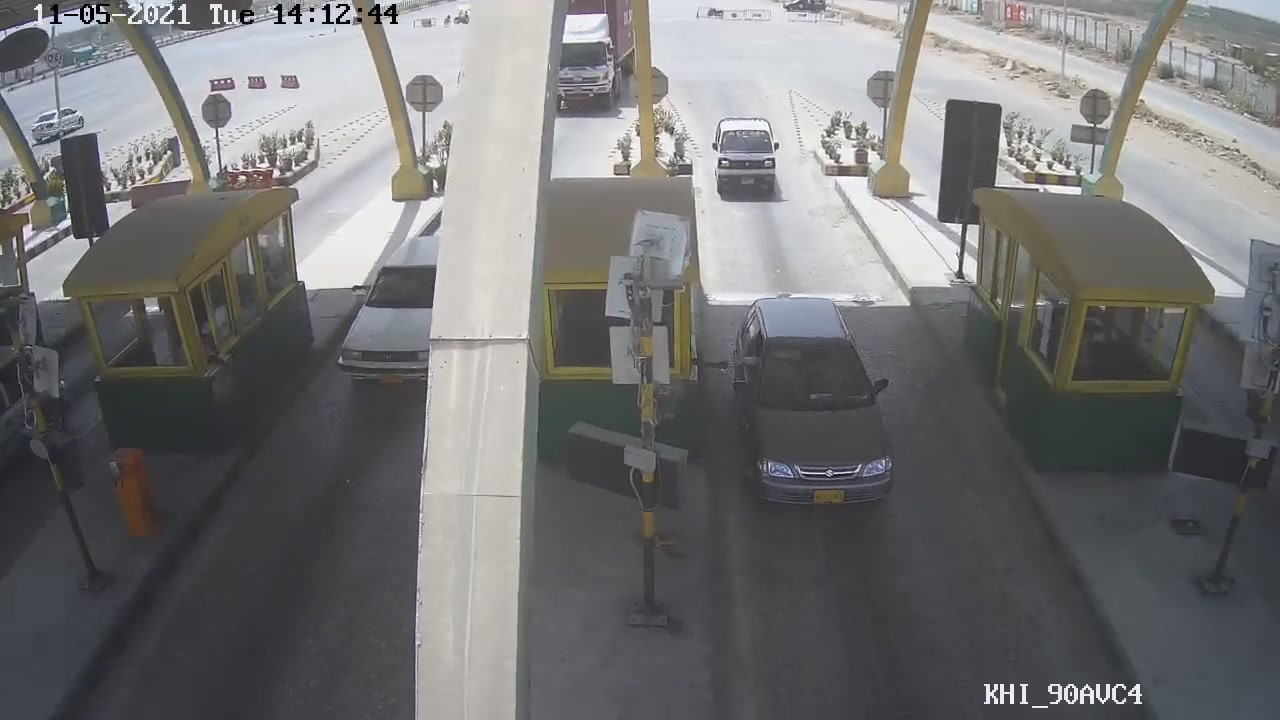F1: (723, 289, 898, 515)
